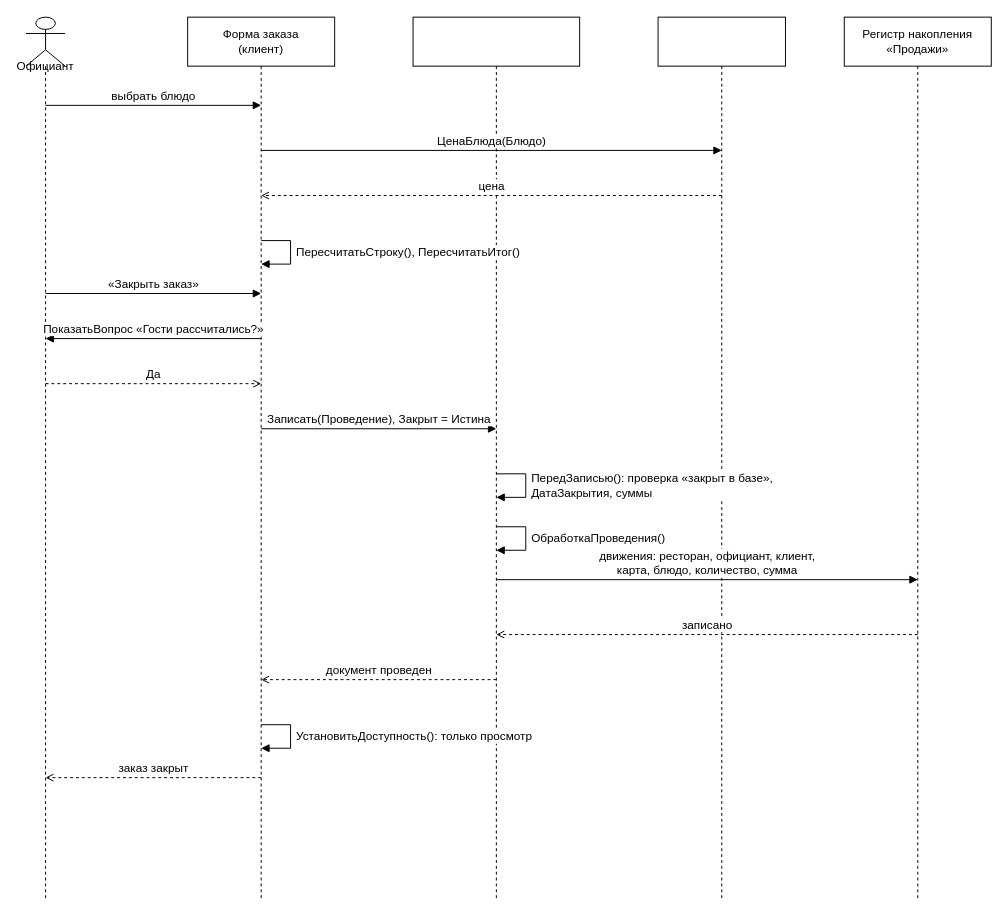
Image size: 1008x916. Some labels were removed from this diagram. The shapes that lost their labels are listed below. From the top down, each one's centre as x and y in pixels, then its label:
At [496,457]: "Модуль объекта документа (сервер)".
At [721,457]: "Справочник «Блюда»".
